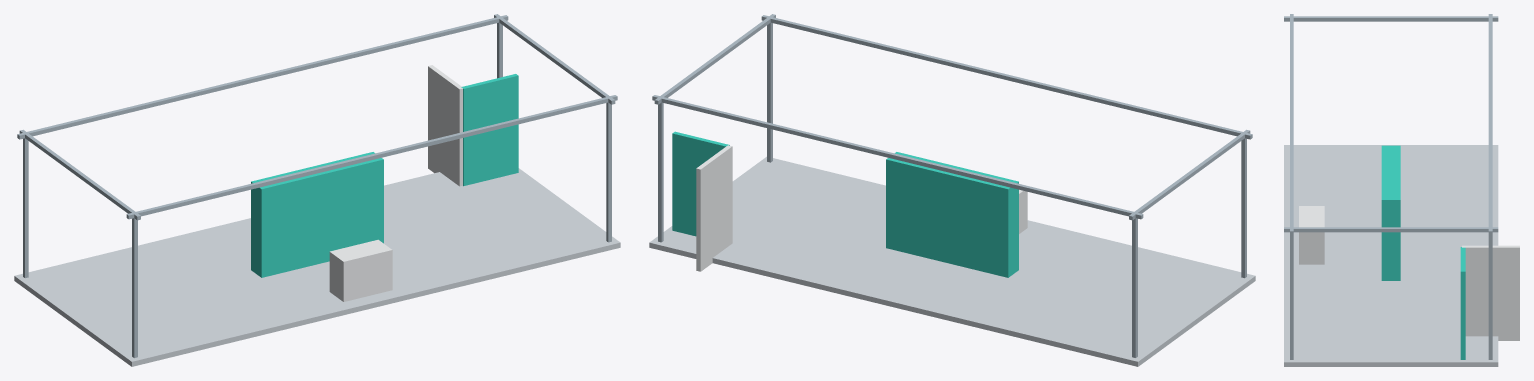
The picture shows the model from 3 angles, left to right: view 1: azimuth 30°, elevation 25°; view 2: azimuth 150°, elevation 25°; view 3: azimuth 270°, elevation 25°; orthographic projection. The views are drawn at different scales.
Visible parts, largest first — view 1: Exhibition Booth Concept; view 2: Exhibition Booth Concept; view 3: Exhibition Booth Concept.
Boxes of the visible parts, x1=… form: Exhibition Booth Concept: x1=14, y1=14, x2=620, y2=366; Exhibition Booth Concept: x1=649, y1=14, x2=1255, y2=366; Exhibition Booth Concept: x1=1284, y1=14, x2=1519, y2=366.
Size of the model in its own units: 12 by 3.49 by 5.51.
